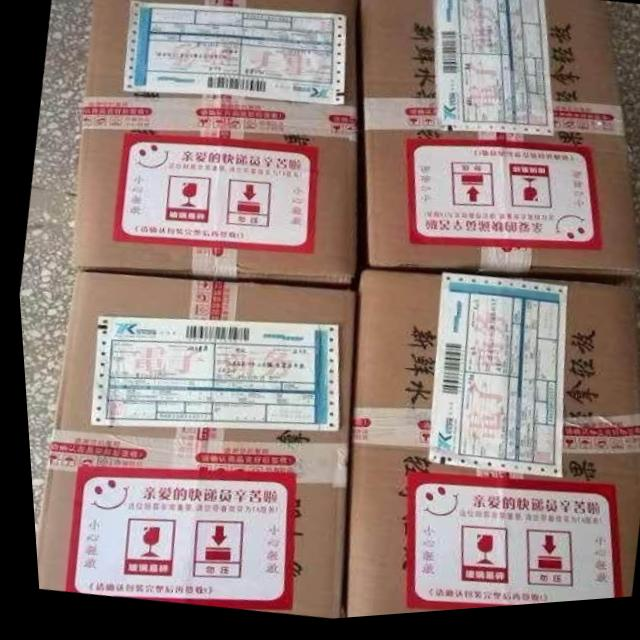box: (28, 271, 349, 622), (331, 275, 636, 623), (65, 0, 356, 293), (358, 0, 634, 296)
